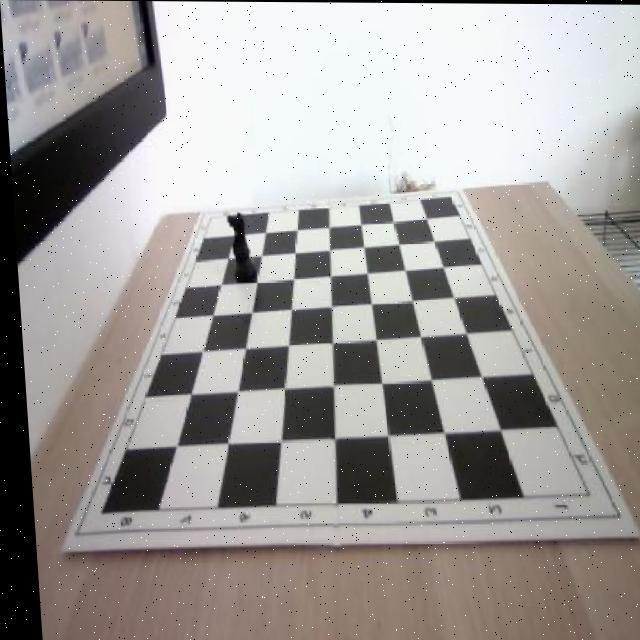black-king: (221, 211, 253, 284)
